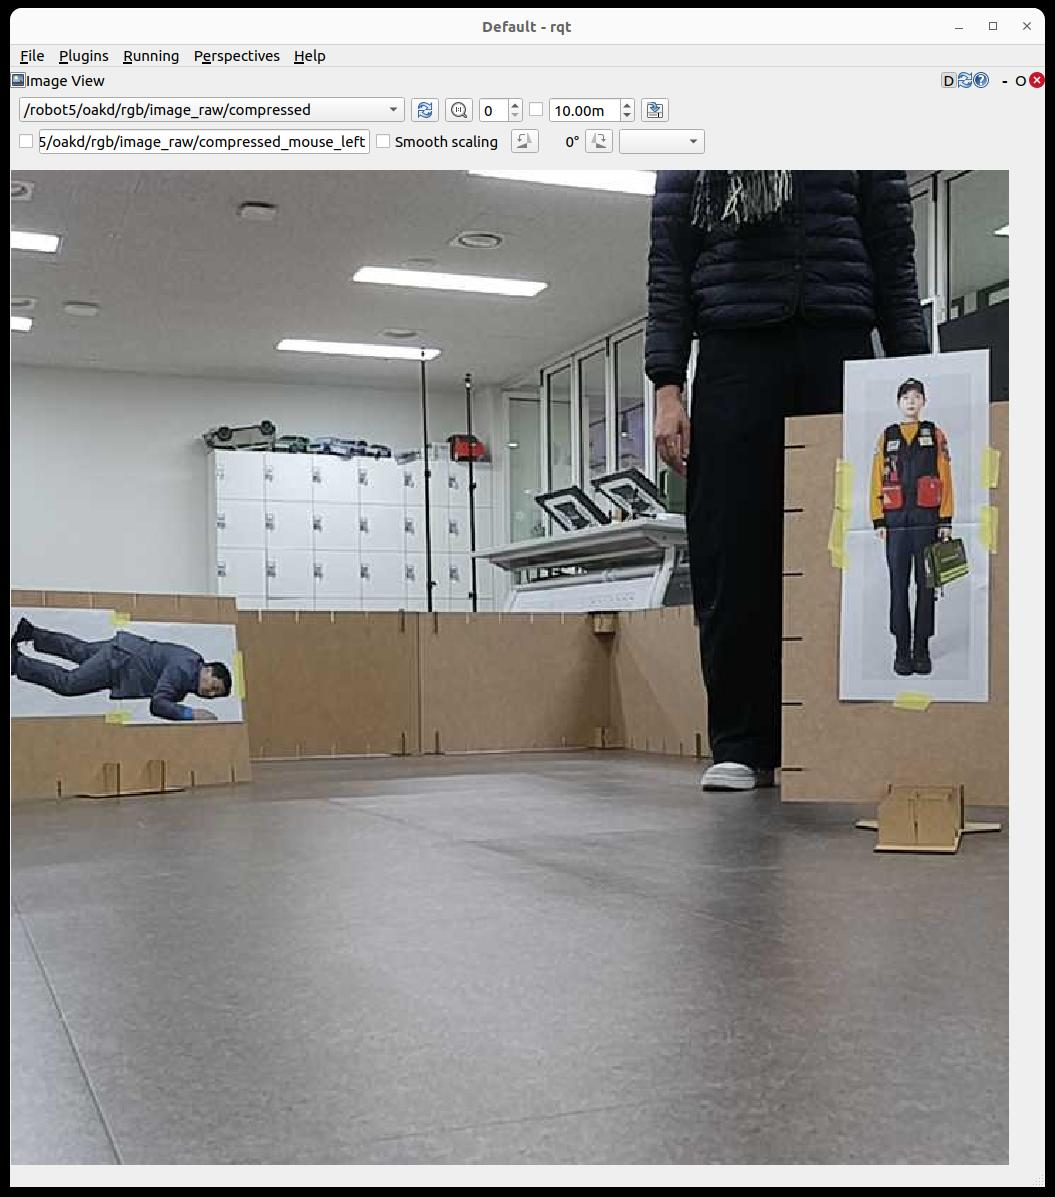Patient: (12, 618, 230, 721)
Responder: (870, 379, 968, 676)
